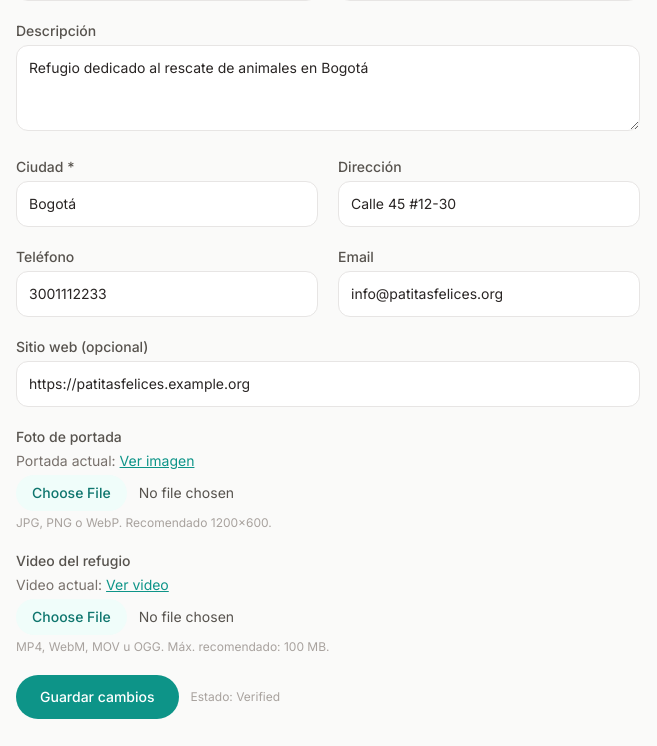
Scenario: ShelterConfigPage › shows success message after save
The width and height of the screenshot is (657, 746).
(page scrolled)
Click the button "Guardar cambios" at [97, 697], box [16,675,178,719]
(page scrolled)
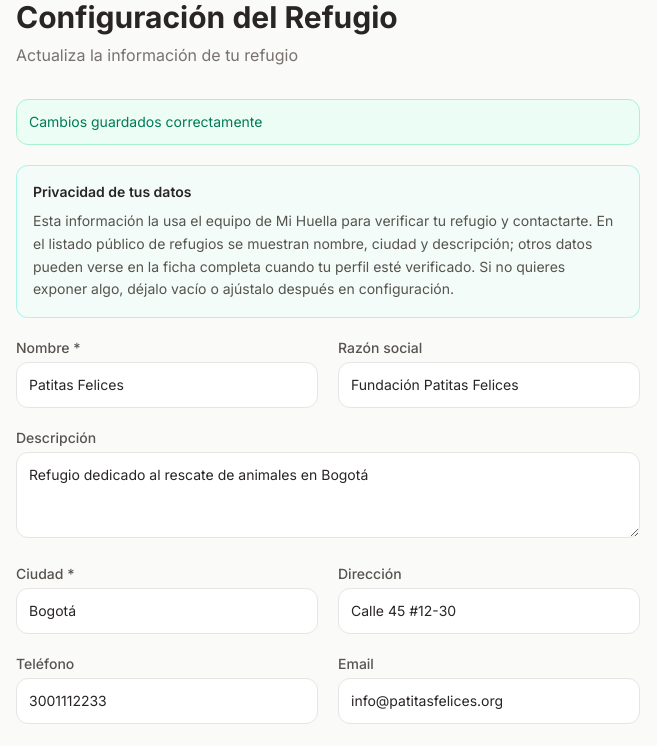
expect the text "Cambios guardados correctamente" is shown: met, box [16,99,640,145]
